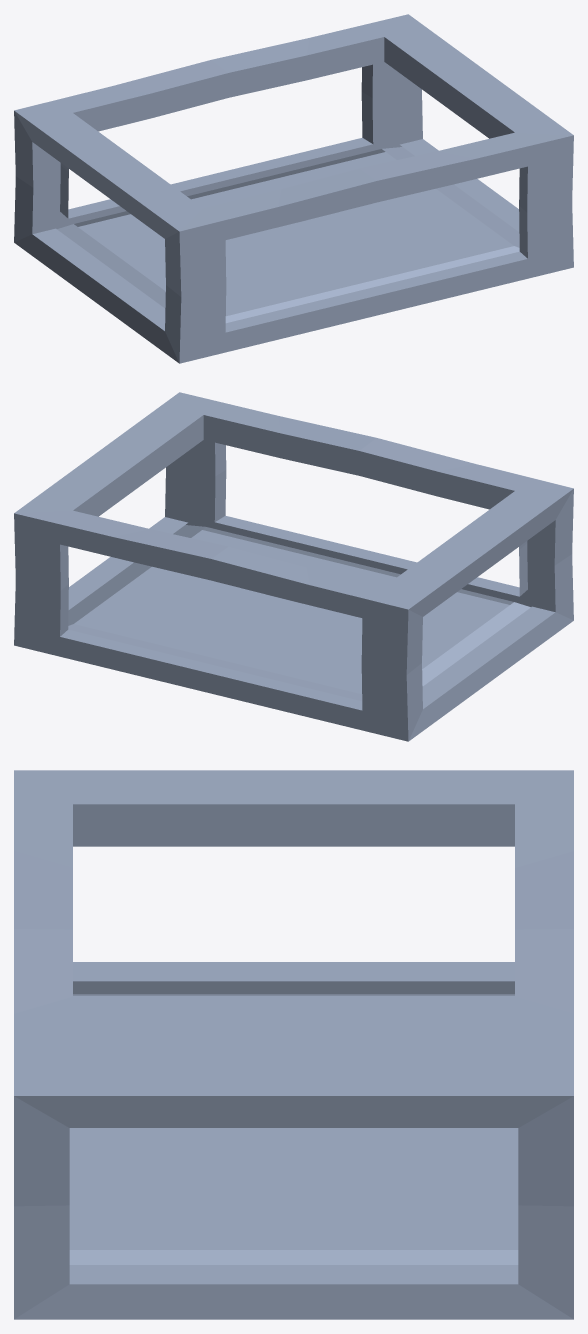
Rendered from n2_chest_bottom_light_grey_0_lev2.glb.
3 views of the same model, one above another, from view 1: azimuth 30°, elevation 25°; view 2: azimuth 150°, elevation 25°; view 3: azimuth 270°, elevation 25° (orthographic). The views are drawn at different scales.
Visible parts, largest first — view 1: n2_chest_bottom_light_grey_0_lev2; view 2: n2_chest_bottom_light_grey_0_lev2; view 3: n2_chest_bottom_light_grey_0_lev2.
Boxes of the visible parts, x1=… form: n2_chest_bottom_light_grey_0_lev2: x1=14, y1=14, x2=573, y2=363; n2_chest_bottom_light_grey_0_lev2: x1=14, y1=392, x2=573, y2=741; n2_chest_bottom_light_grey_0_lev2: x1=14, y1=770, x2=573, y2=1319.
Size of the model in its own units: 1.28 by 0.4185 by 0.9322.
